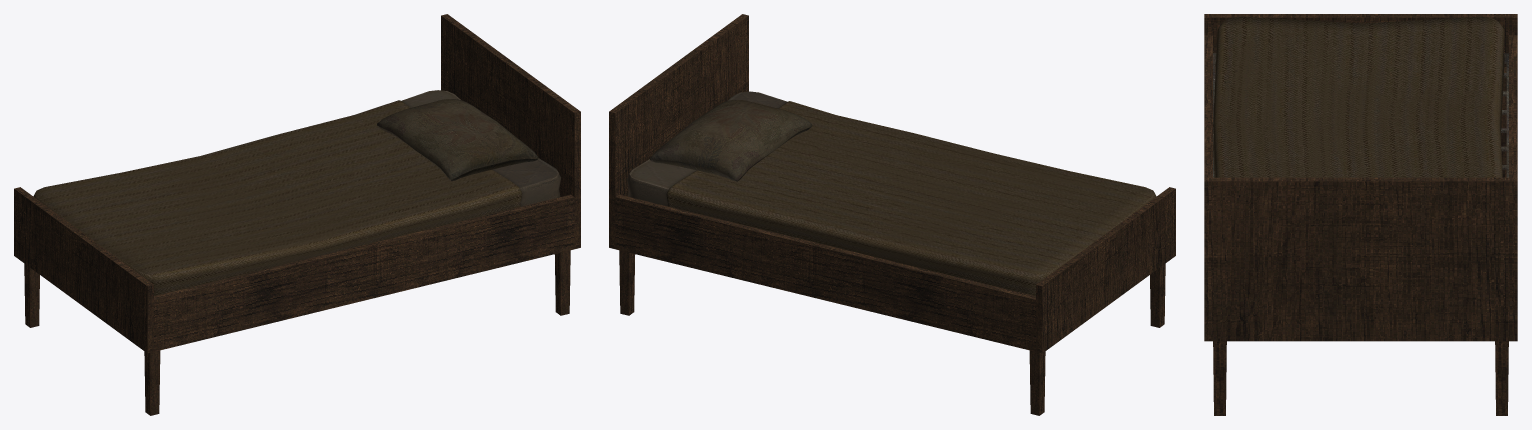
Rendered from bed_3_b_1_made.glb.
3 renders of one model, left to right at view 1: azimuth 30°, elevation 25°; view 2: azimuth 150°, elevation 25°; view 3: azimuth 270°, elevation 25°, orthographic. The views are drawn at different scales.
Parts seen in each view (by area): view 1: bed_3_b_1_made; view 2: bed_3_b_1_made; view 3: bed_3_b_1_made.
Part boxes in pixels (x1,y1,x2,y2): bed_3_b_1_made: (14, 14, 580, 415); bed_3_b_1_made: (609, 14, 1175, 415); bed_3_b_1_made: (1204, 14, 1517, 415).
Bounding box in the file's own units: 2.7 × 1.21 × 1.44.
4 materials, 4 textured.
